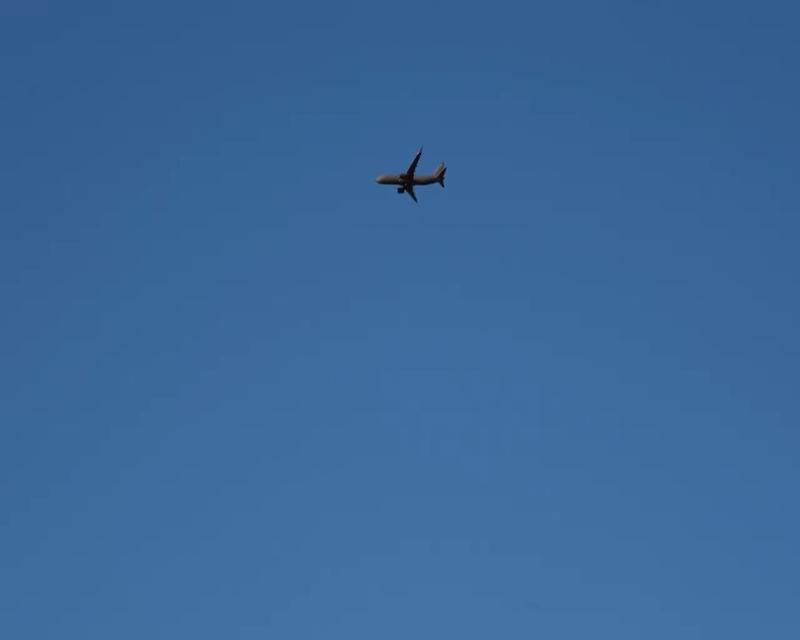UAV: (374, 145, 447, 203)
